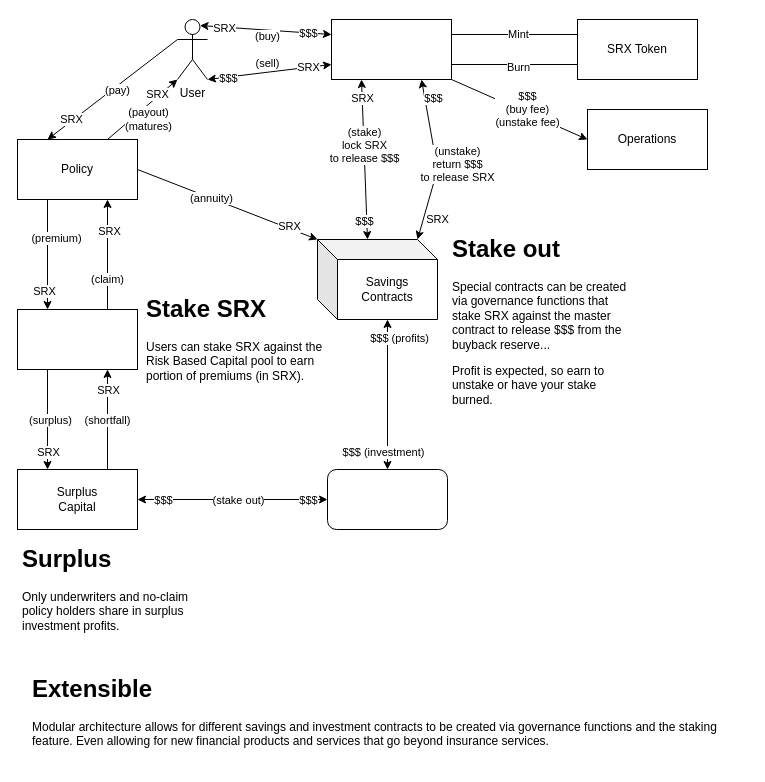
Image size: 765x782. Some labels were removed from this diagram. Each missing label, with the box of its shape:
External Investments (yield farms, etc): (326, 468, 448, 530)
Risk Based Capital (MCR): (16, 308, 138, 370)
SureX: (330, 18, 452, 80)
